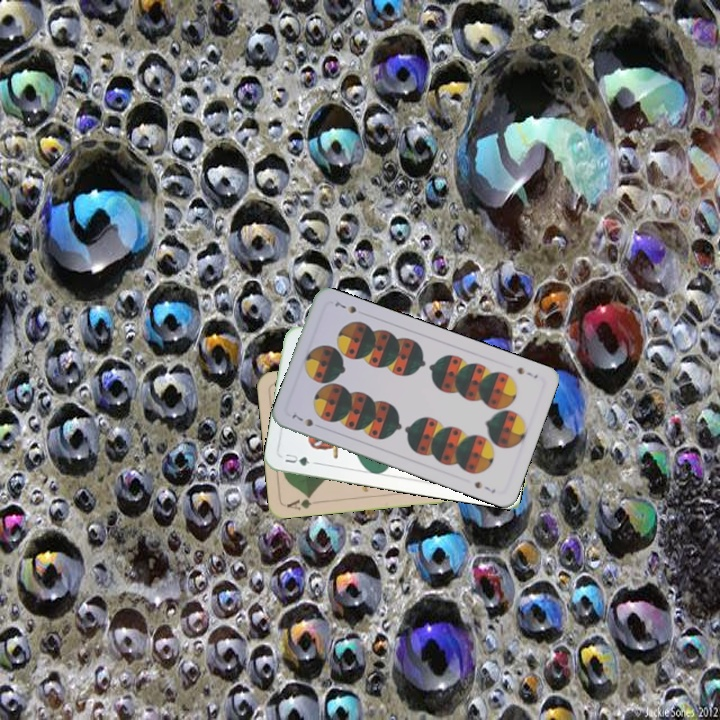GA: (283, 491, 315, 513)
GU: (281, 450, 319, 468)
S7: (288, 410, 316, 429), (512, 363, 540, 381)
